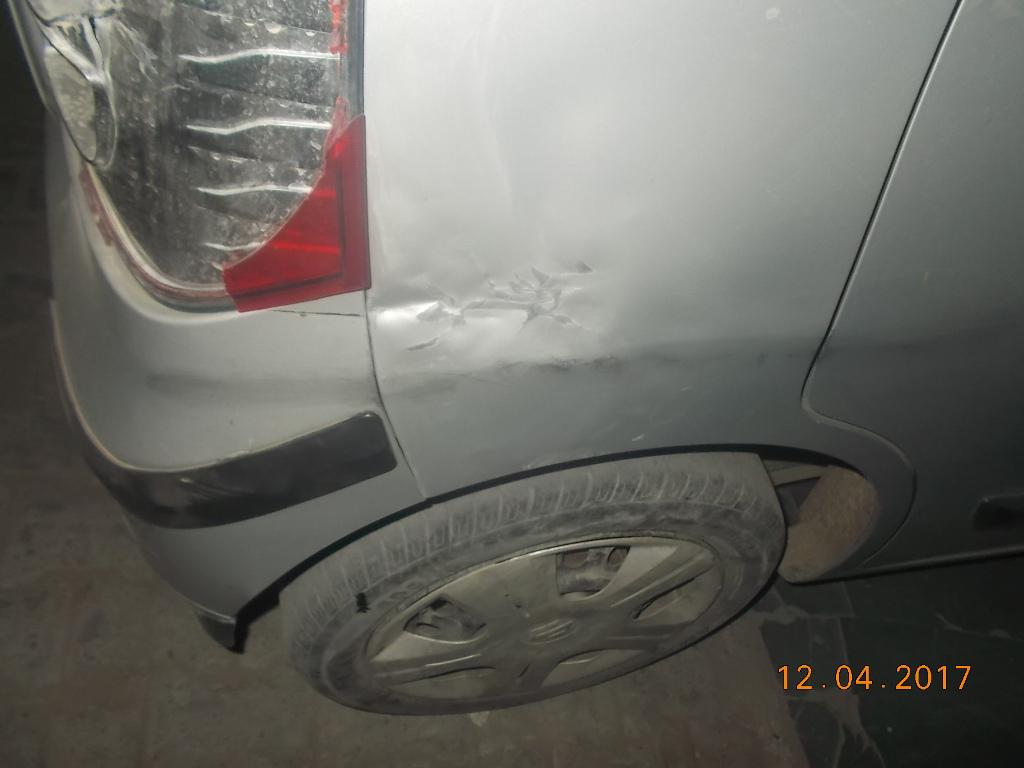quaterpanel-dent: (357, 0, 829, 530)
